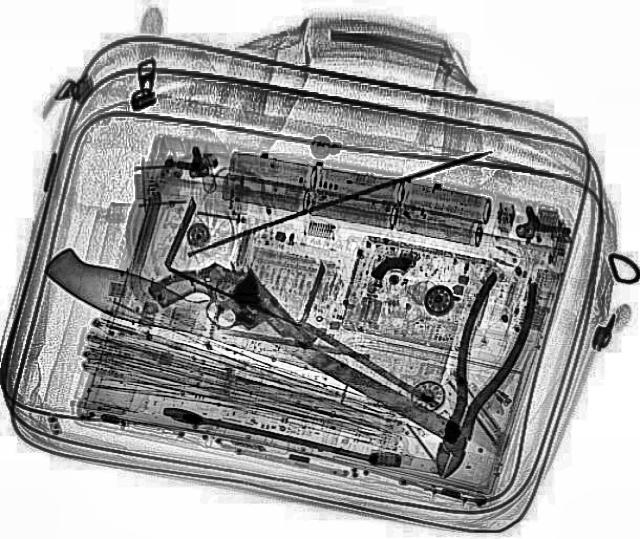Gun: (140, 242, 326, 390)
Knife: (34, 242, 336, 386)
Pliers: (414, 269, 546, 483)
